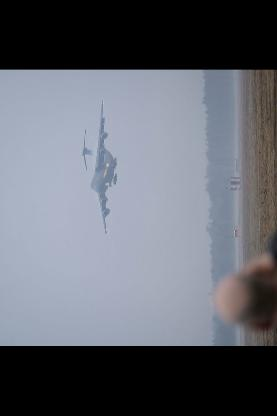C17: (81, 99, 116, 235)
